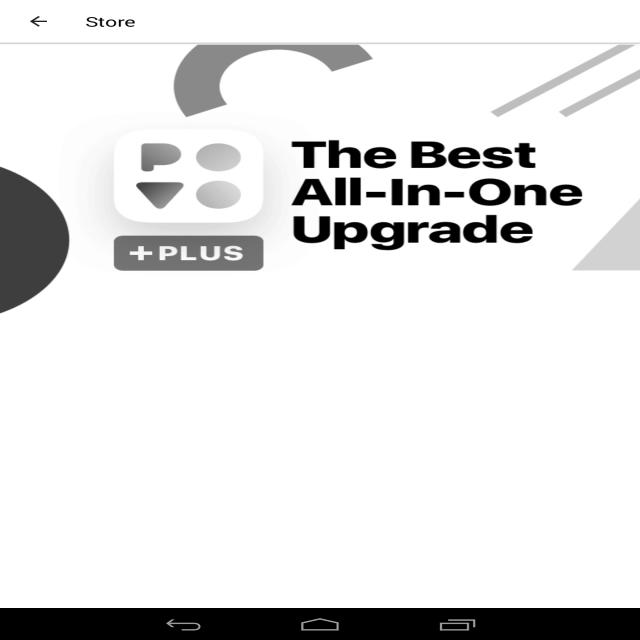ImageButton: (9, 0, 68, 43)
ImageView: (0, 45, 640, 318), (20, 377, 259, 527), (272, 377, 511, 527), (523, 377, 640, 526), (375, 484, 497, 517), (124, 484, 245, 517), (468, 377, 511, 404), (217, 377, 259, 404), (626, 483, 640, 517)
TextView: (323, 529, 466, 556), (74, 529, 212, 556), (10, 340, 170, 360), (11, 581, 78, 601), (596, 529, 640, 556), (85, 12, 136, 30)
